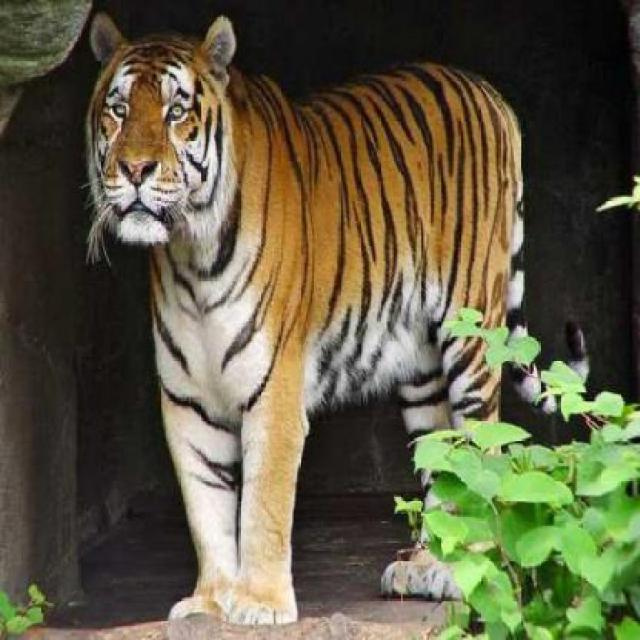Tiger: (58, 0, 560, 608)
